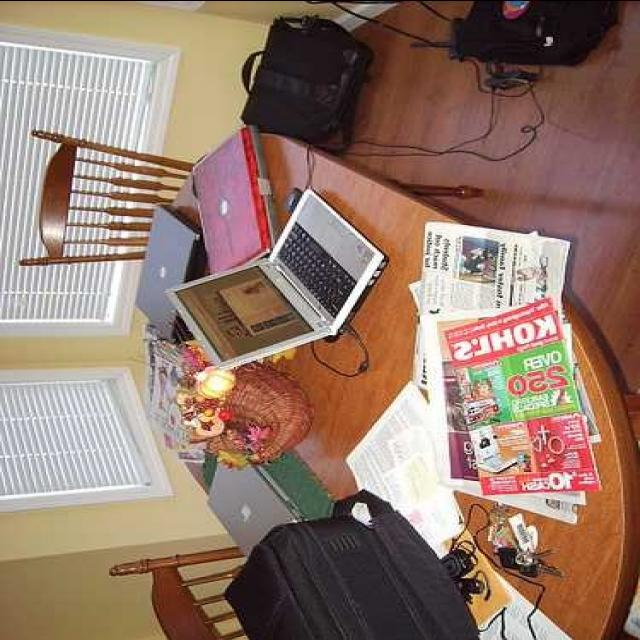laptop: (173, 187, 387, 377)
